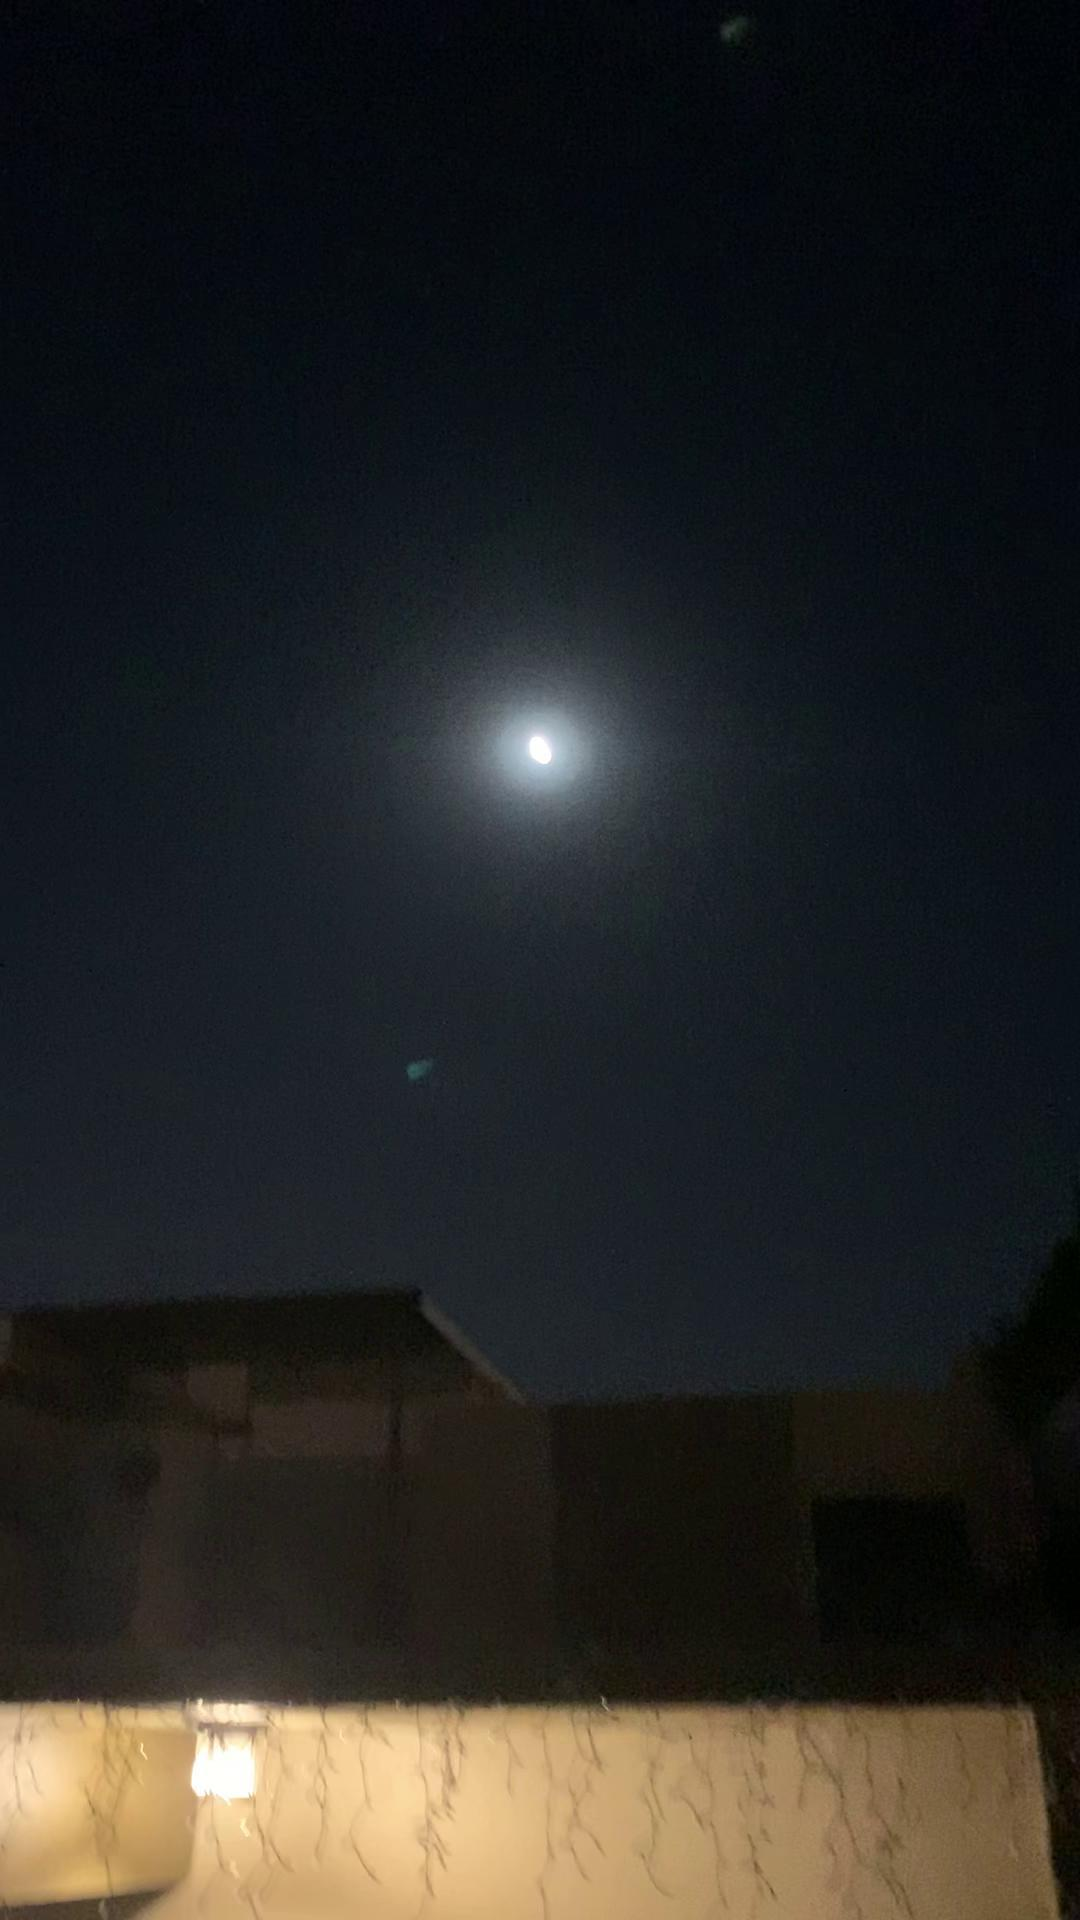moon: (502, 704, 589, 783)
